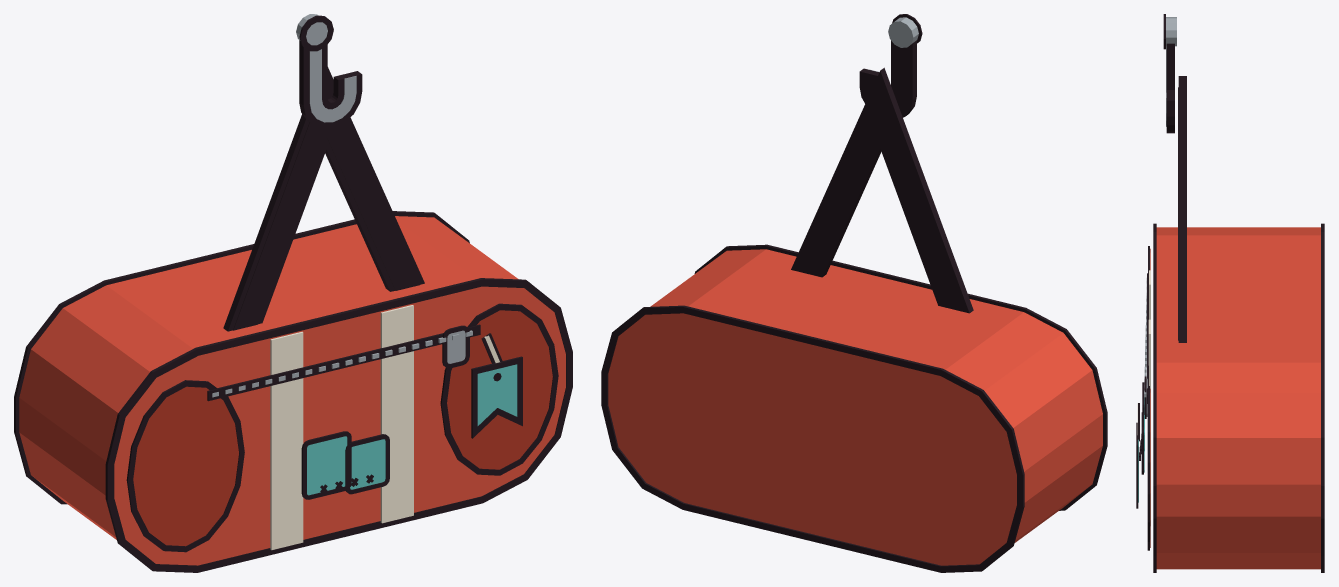
3 renders of one model, left to right at view 1: azimuth 30°, elevation 25°; view 2: azimuth 150°, elevation 25°; view 3: azimuth 270°, elevation 25°, orthographic. The views are drawn at different scales.
Visible parts, largest first — view 1: Bag Holders proposal; view 2: Bag Holders proposal; view 3: Bag Holders proposal.
Part boxes in pixels (x1=…): Bag Holders proposal: x1=14, y1=14, x2=572, y2=572; Bag Holders proposal: x1=601, y1=14, x2=1107, y2=572; Bag Holders proposal: x1=1136, y1=14, x2=1324, y2=572.
Bounding box in the file's own units: 0.9211 × 0.987 × 0.3528.
